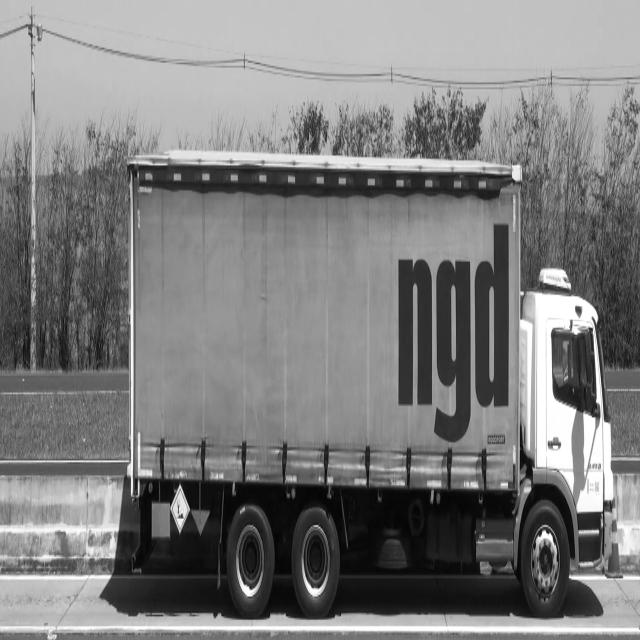Pole: (30, 6, 36, 368)
Truck: (128, 152, 612, 619)
